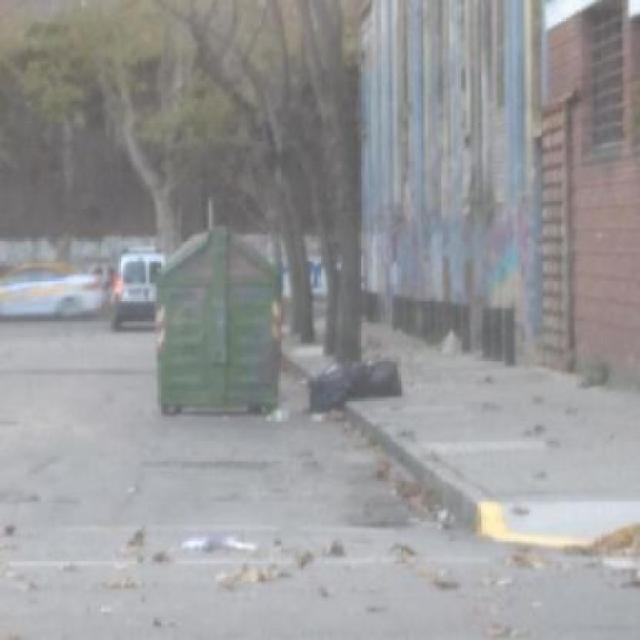garbage: (177, 532, 320, 600), (302, 354, 412, 408), (571, 511, 640, 582)
